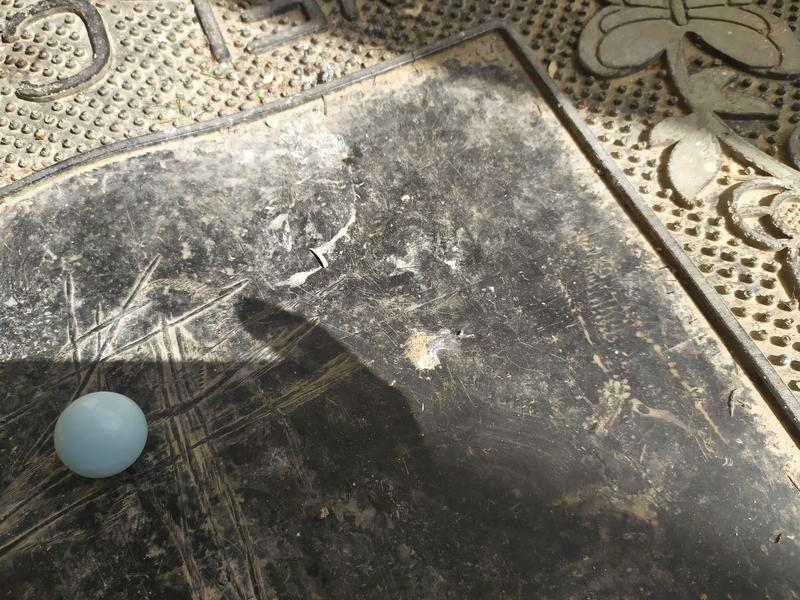Warning: (49, 388, 152, 481)
